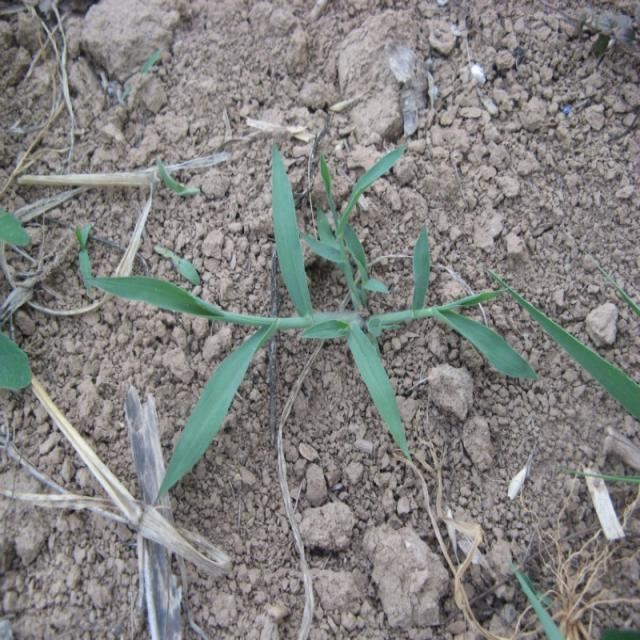bg: (92, 154, 543, 497)
